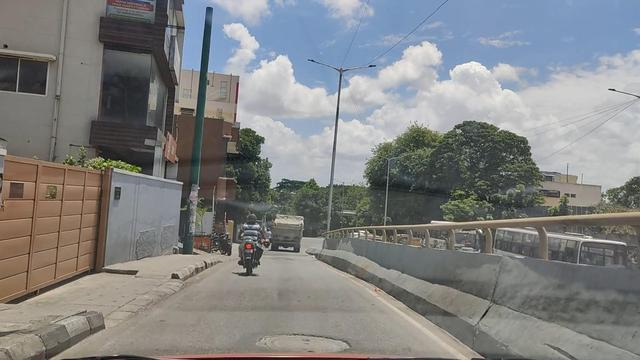HMV: (265, 203, 308, 256)
RoadDamages: (253, 325, 363, 360)
